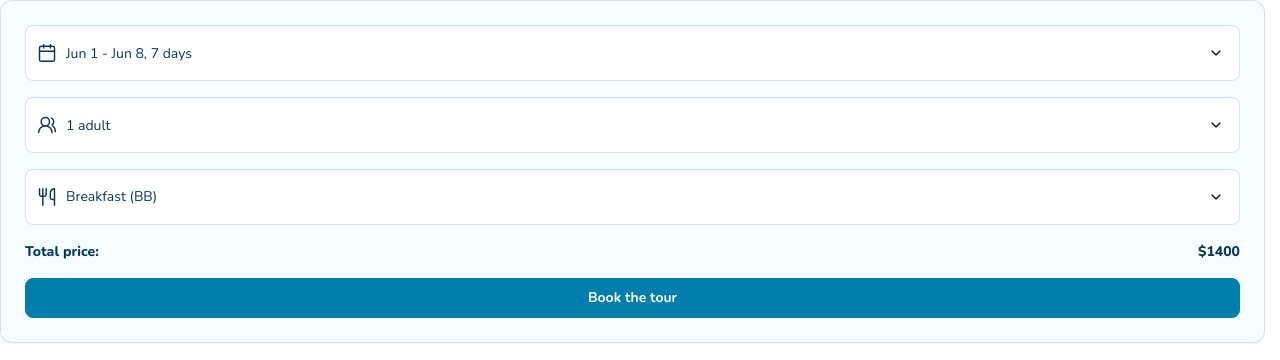
Test: TourBookingForm Component › allows adjusting adults and children count via GuestsPopover
Click the element with test id "booking-guests-trigger". click: (632, 125)
box: [25,97,1240,153]
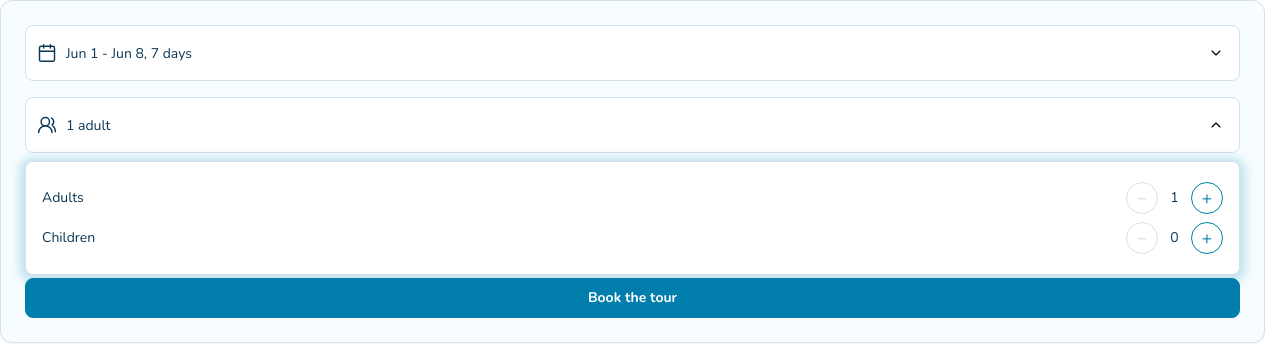
Check: the element with test id "guests-popover" is shown, box [25,161,1240,275]
Click the button named "Increase children". click: (1207, 238)
box: [1191,222,1223,254]
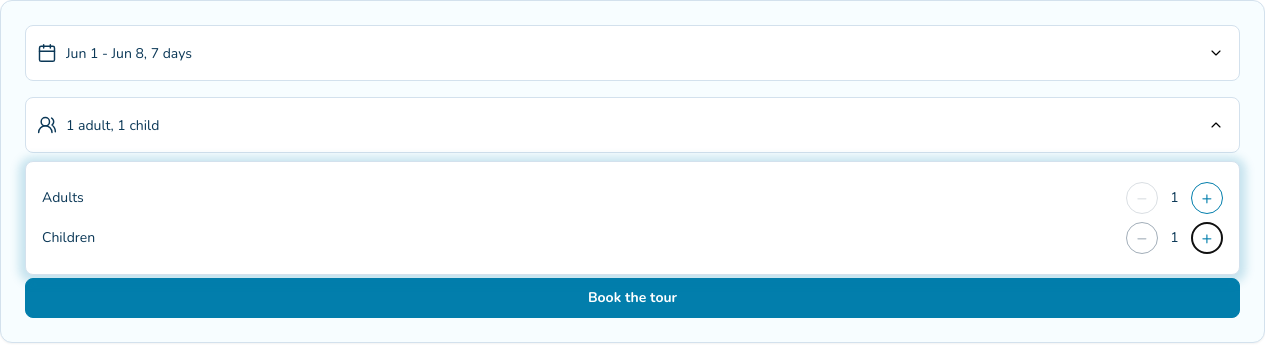
Check: the field named "Number of tourists" holds "1 adult, 1 child", box [25,97,1240,153]
